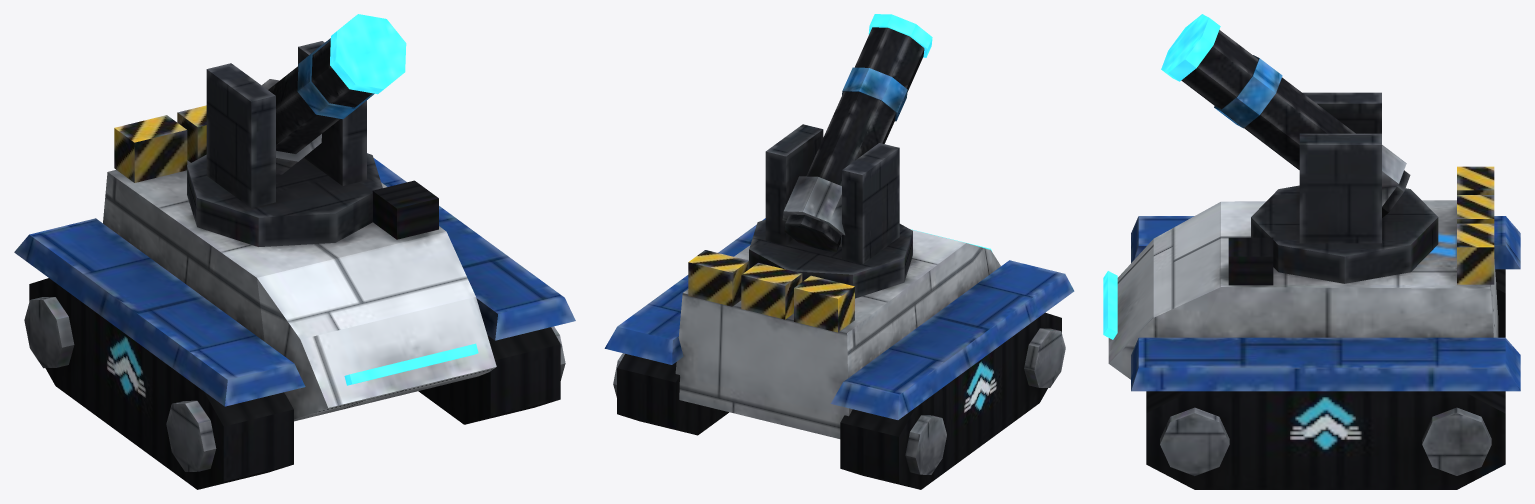
The model's file is u_mortar1_w.glb.
3 renders of one model, left to right at view 1: azimuth 30°, elevation 25°; view 2: azimuth 150°, elevation 25°; view 3: azimuth 270°, elevation 25°, orthographic. The views are drawn at different scales.
Visible parts, largest first — view 1: u_mortar1_w; view 2: u_mortar1_w; view 3: u_mortar1_w.
Boxes of the visible parts, bbox=[...] form: u_mortar1_w: bbox=[14, 14, 575, 489]; u_mortar1_w: bbox=[604, 14, 1074, 489]; u_mortar1_w: bbox=[1103, 14, 1520, 489].
Bounding box in the file's own units: 1.03 × 1.17 × 1.11.
Materials: 1 (1 with a texture image).
